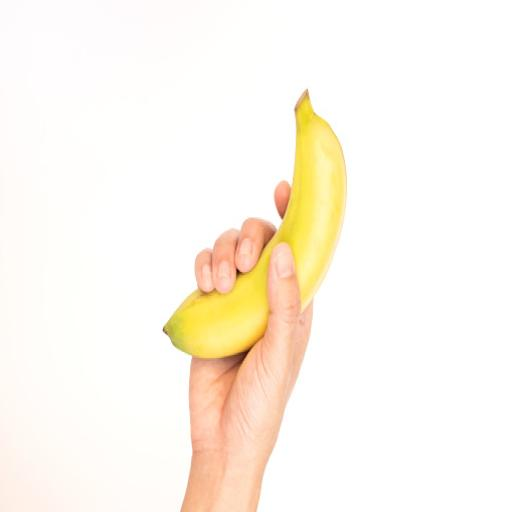banana: (164, 91, 346, 357)
